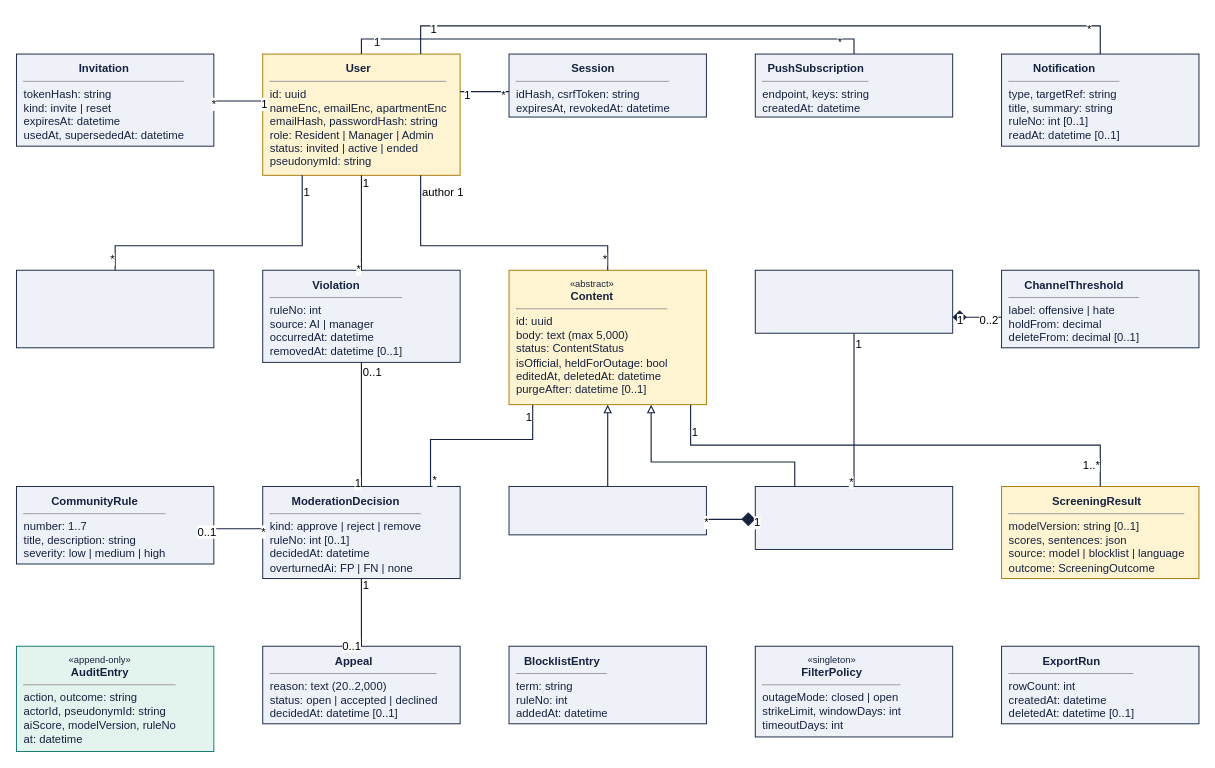
The diagram is 1215 pixels wide and 768 high, and some of its shapes have lost their labels. The shapes that lost their labels are listed below. From the top down, each one's centre as x and y in pixels, then its label:
the point at 115,308: Penalty kind: read-only startsAt, endsAt: datetime reason: string
the point at 853,301: Channel id, name: string residentsMayPost: bool
the point at 607,510: Comment parentId: uuid [0..1]
the point at 853,517: Post title: string commentCount: int
